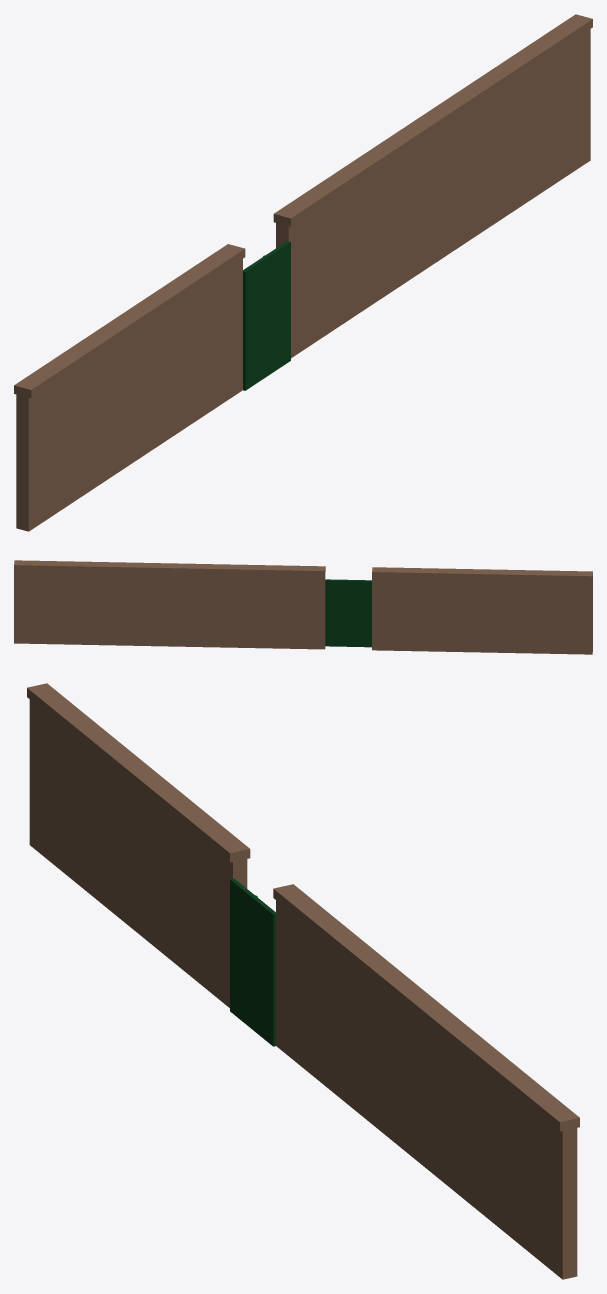
The model's file is Grote_Kattenburgerstraat_8-14.fbx.
The picture shows the model from 3 angles, top to bottom: view 1: azimuth 30°, elevation 25°; view 2: azimuth 150°, elevation 25°; view 3: azimuth 270°, elevation 25°; orthographic projection. The views are drawn at different scales.
Visible parts, largest first — view 1: Grote_Kattenburgerstraat_8-14_wall, Grote_Kattenburgerstraat_8-14_door; view 2: Grote_Kattenburgerstraat_8-14_wall, Grote_Kattenburgerstraat_8-14_door; view 3: Grote_Kattenburgerstraat_8-14_wall, Grote_Kattenburgerstraat_8-14_door.
Boxes of the visible parts, bbox=[...] form: Grote_Kattenburgerstraat_8-14_wall: bbox=[14, 14, 592, 531]; Grote_Kattenburgerstraat_8-14_door: bbox=[243, 241, 290, 390]; Grote_Kattenburgerstraat_8-14_wall: bbox=[14, 560, 592, 654]; Grote_Kattenburgerstraat_8-14_door: bbox=[325, 579, 371, 647]; Grote_Kattenburgerstraat_8-14_wall: bbox=[27, 683, 579, 1279]; Grote_Kattenburgerstraat_8-14_door: bbox=[230, 878, 275, 1046].
Bounding box in the file's own units: 1698 × 285 × 904.
